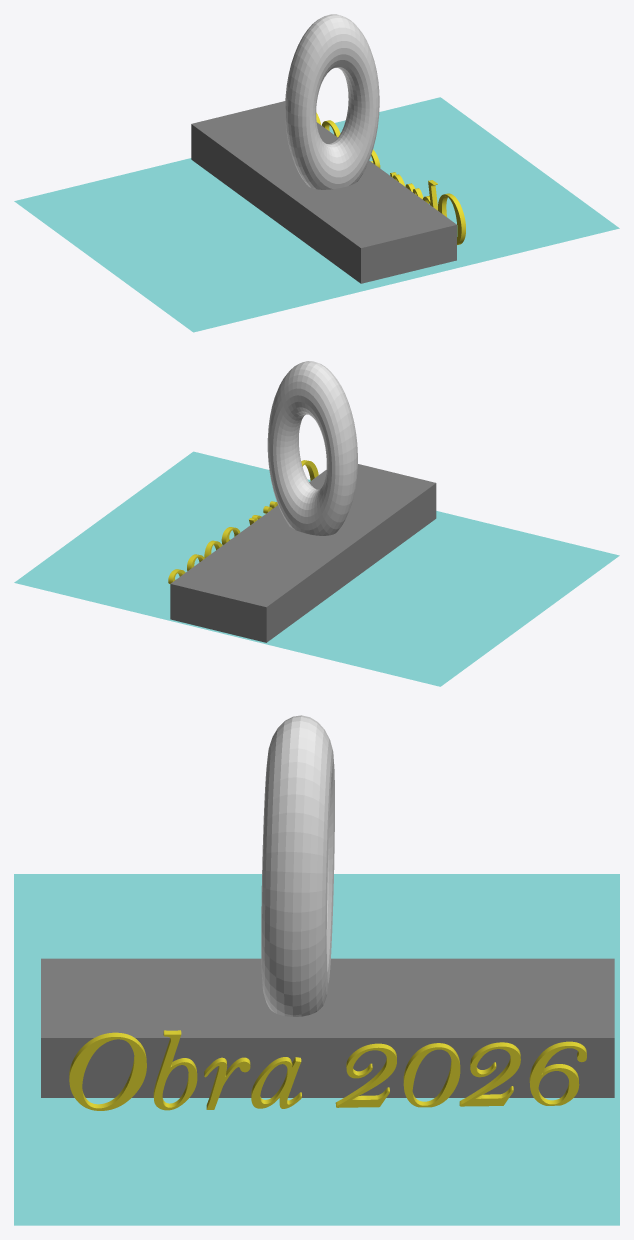
Rendered from escultura.glb.
3 renders of one model, top to bottom at view 1: azimuth 30°, elevation 25°; view 2: azimuth 150°, elevation 25°; view 3: azimuth 270°, elevation 25°, orthographic. The views are drawn at different scales.
Parts seen in each view (by area): view 1: Plano, Cube, Toroide.001, Texto; view 2: Plano, Cube, Toroide.001, Texto; view 3: Plano, Cube, Toroide.001, Texto.
Boxes of the visible parts, x1=… form: Plano: x1=14, y1=97, x2=619, y2=332; Cube: x1=191, y1=101, x2=456, y2=283; Toroide.001: x1=285, y1=14, x2=379, y2=189; Texto: x1=316, y1=112, x2=465, y2=244; Plano: x1=14, y1=451, x2=619, y2=686; Cube: x1=170, y1=464, x2=436, y2=642; Toroide.001: x1=267, y1=361, x2=357, y2=535; Texto: x1=168, y1=460, x2=318, y2=583; Plano: x1=14, y1=874, x2=619, y2=1225; Cube: x1=41, y1=958, x2=614, y2=1097; Toroide.001: x1=261, y1=715, x2=334, y2=1016; Texto: x1=69, y1=1030, x2=586, y2=1110.
Size of the model in its own units: 5.56 by 2.51 by 4.05.
